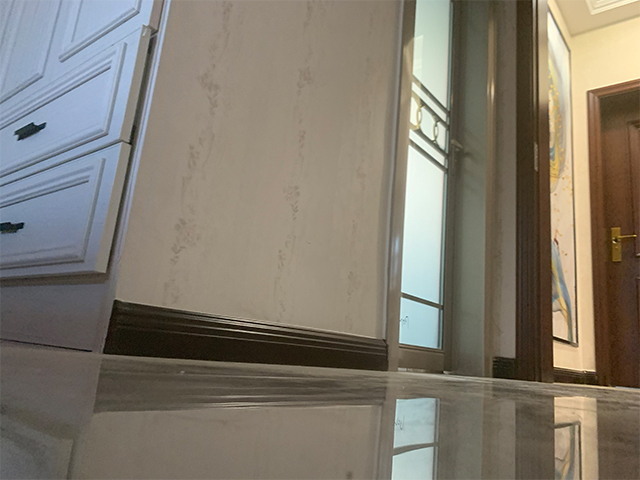cabinet: (1, 1, 387, 369)
